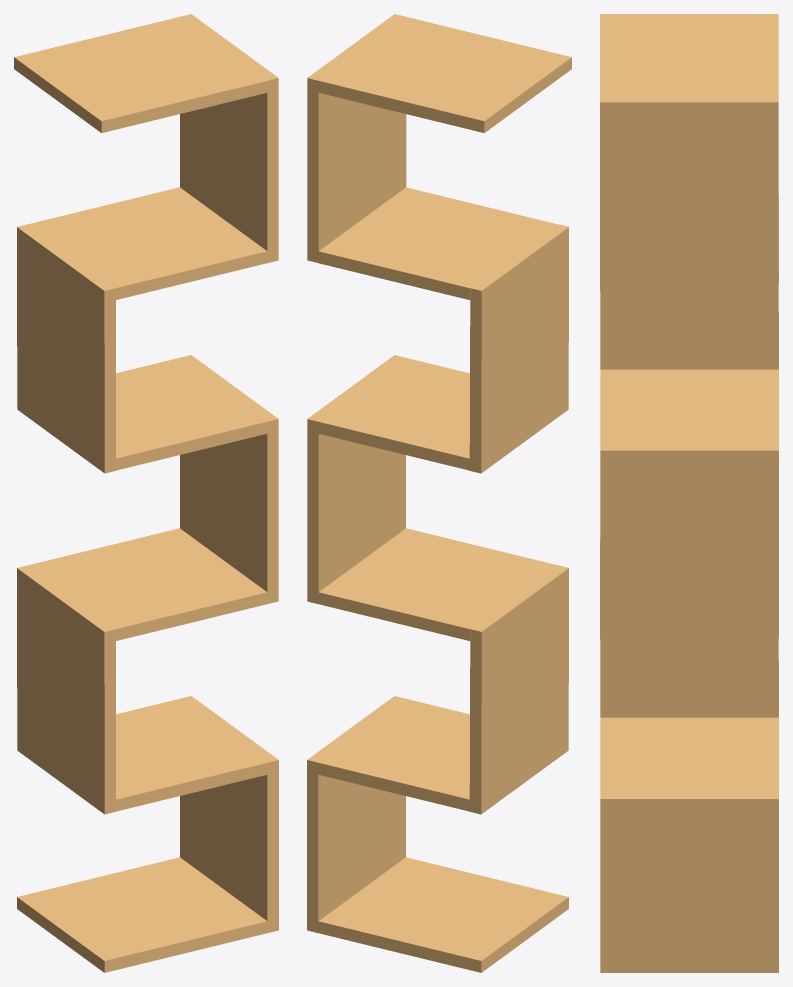
File: Modern Zigzag Shelf.glb
The picture shows the model from 3 angles, left to right: view 1: azimuth 30°, elevation 25°; view 2: azimuth 150°, elevation 25°; view 3: azimuth 270°, elevation 25°; orthographic projection. The views are drawn at different scales.
Parts seen in each view (by area): view 1: Node; view 2: Node; view 3: Node.
Boxes of the visible parts, bbox=[...] form: Node: bbox=[14, 14, 278, 972]; Node: bbox=[307, 14, 571, 972]; Node: bbox=[600, 14, 778, 972].
Size of the model in its own units: 0.6205 by 2.85 by 0.5306.
